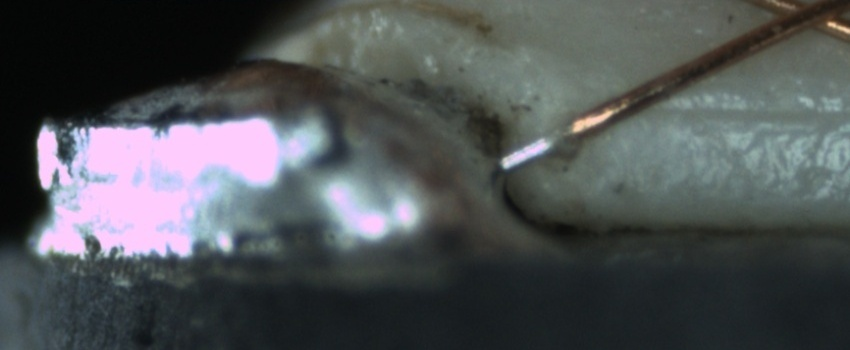CL: (756, 0, 842, 41)
DL: (635, 81, 849, 145)
TS: (494, 124, 571, 175)
